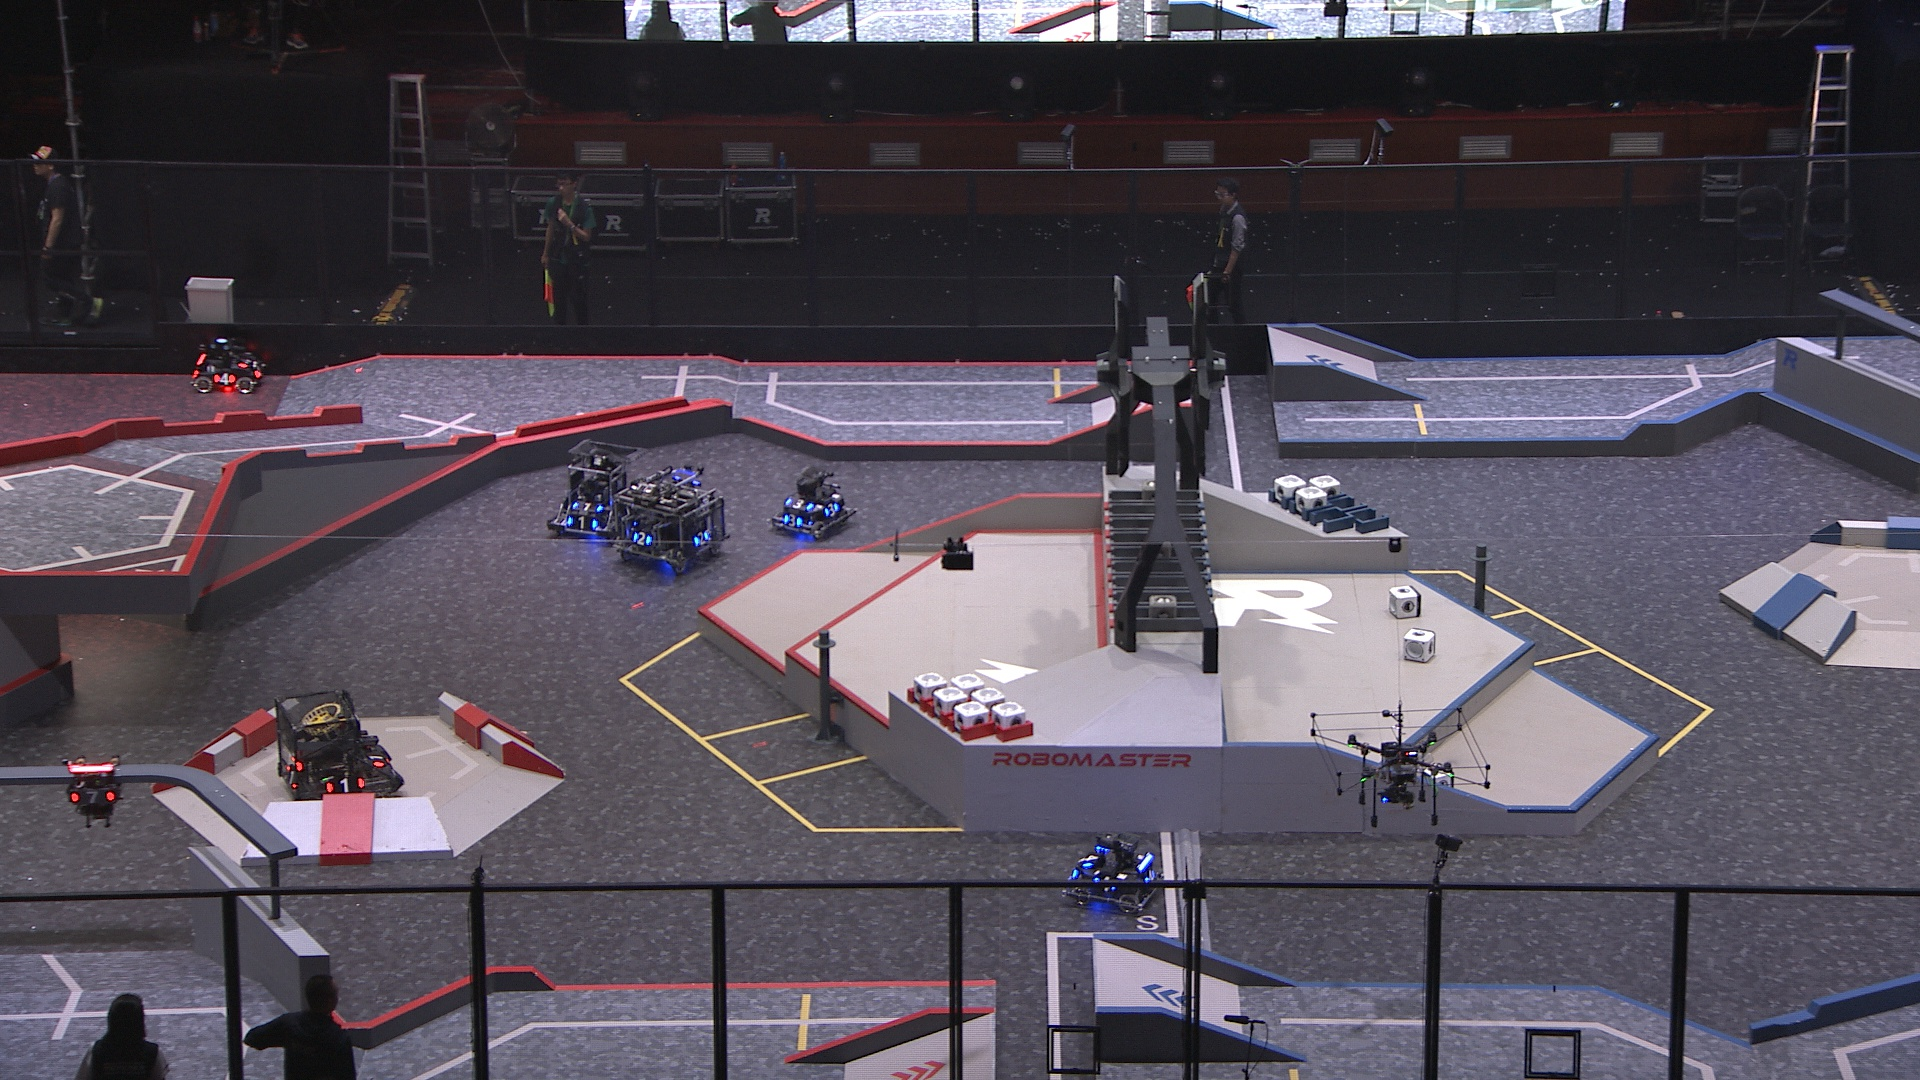armor: (69, 789, 113, 804), (564, 513, 599, 533), (324, 777, 367, 793), (282, 765, 301, 794), (1092, 876, 1116, 895), (365, 744, 384, 767), (572, 500, 603, 513), (787, 498, 816, 512), (783, 512, 807, 527), (1081, 851, 1101, 869), (629, 531, 650, 546), (694, 529, 711, 546), (823, 502, 841, 518), (212, 373, 233, 386), (1145, 866, 1160, 884), (237, 352, 253, 368)
car: (273, 684, 406, 804), (613, 462, 727, 574), (545, 433, 636, 538), (1063, 831, 1164, 910), (769, 467, 855, 534), (187, 334, 264, 400)
watcher: (62, 756, 125, 828)
